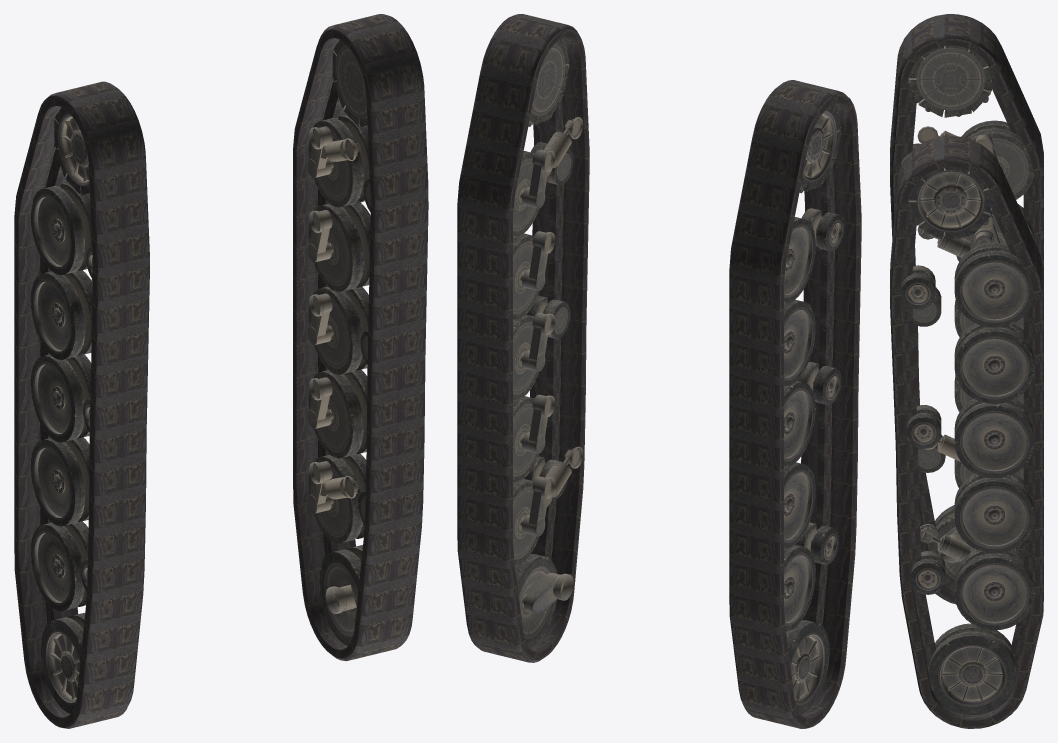
The model's file is Chassis.glb.
3 views of the same model, side by side, from view 1: azimuth 30°, elevation 25°; view 2: azimuth 150°, elevation 25°; view 3: azimuth 270°, elevation 25° (orthographic). The views are drawn at different scales.
Parts seen in each view (by area): view 1: set_1_group_0, set_0_group_0, set_3_group_0, set_2_group_0; view 2: set_1_group_0, set_0_group_0, set_3_group_0, set_2_group_0; view 3: set_3_group_0, set_0_group_0, set_2_group_0, set_1_group_0.
Boxes of the visible parts, <box> form: set_1_group_0: <box>14,81,149,728</box>; set_0_group_0: <box>293,14,428,661</box>; set_3_group_0: <box>307,40,370,645</box>; set_2_group_0: <box>30,107,92,713</box>; set_1_group_0: <box>729,80,861,728</box>; set_0_group_0: <box>457,14,589,662</box>; set_3_group_0: <box>513,38,583,647</box>; set_2_group_0: <box>784,104,844,714</box>; set_3_group_0: <box>901,167,1034,714</box>; set_0_group_0: <box>890,136,1043,728</box>; set_2_group_0: <box>901,45,1034,589</box>; set_1_group_0: <box>890,14,1043,604</box>.
Bounding box in the file's own units: 3.13 × 5.76 × 1.4.
4 materials, 4 textured.
